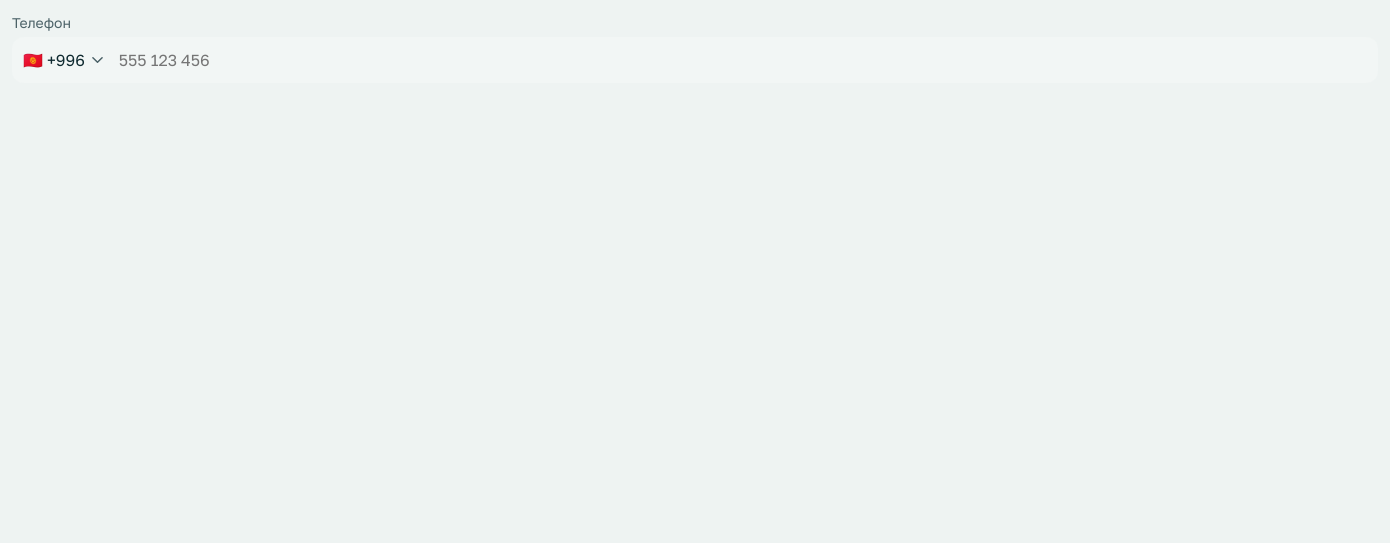
Scenario: другая страна — код набирают сами; номер, набранный с «+», переключает страну
The image size is (1390, 543).
Click the dropdown named "Код страны". click: coordinates (62, 60)
box: [13, 38, 111, 82]
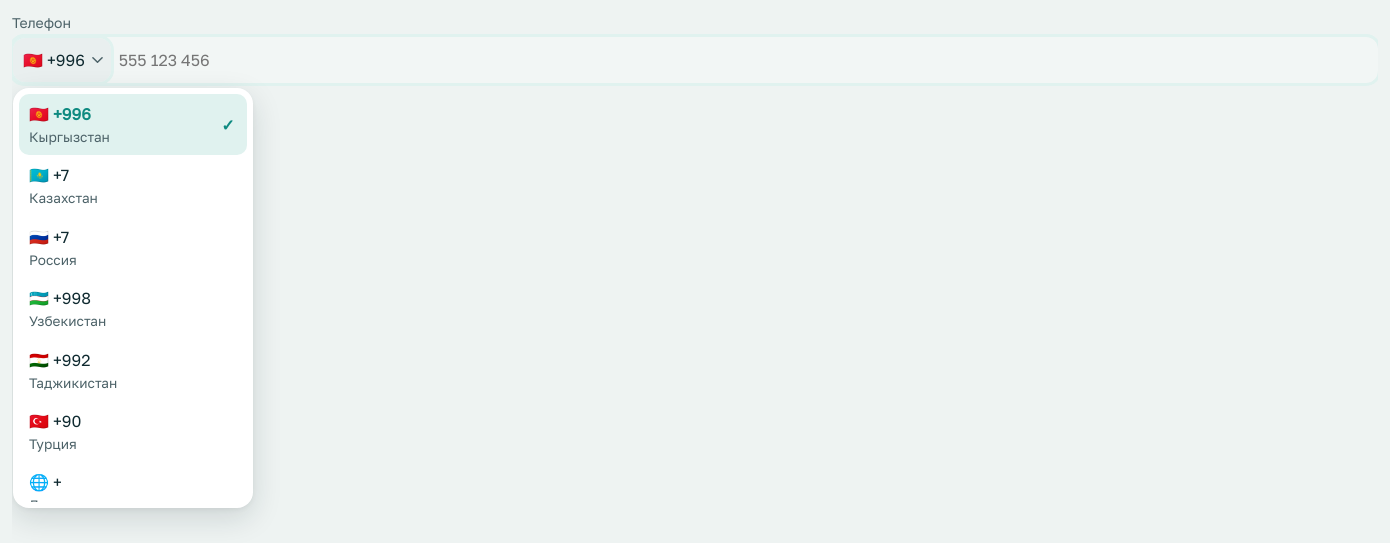
Click the option "🌐 + Другая страна". click: coordinates (45, 482)
box: [29, 472, 126, 513]
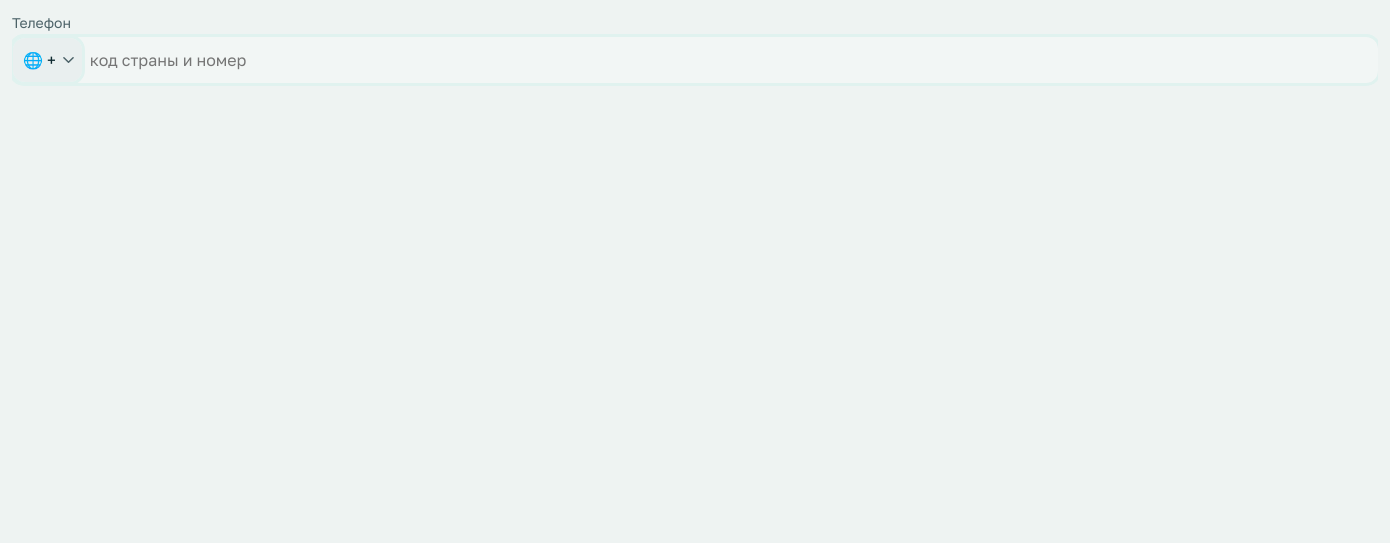
Type "4930 1234567" into the field labelled "Телефон". click: coordinates (729, 60)
box: [82, 38, 1377, 82]
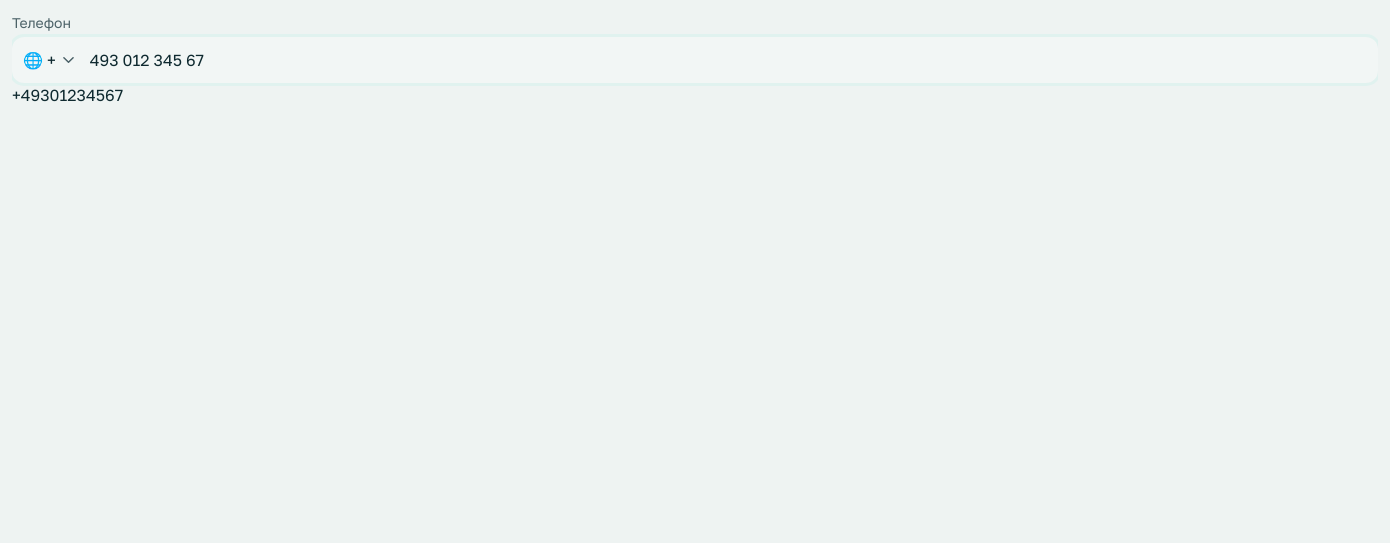
Expected: the field labelled "Телефон" holds "493 012 345 67"
Replace the text in the field labelled "Телефон" with "+992 93 123 45 67". click: coordinates (729, 60)
box: [82, 38, 1377, 82]
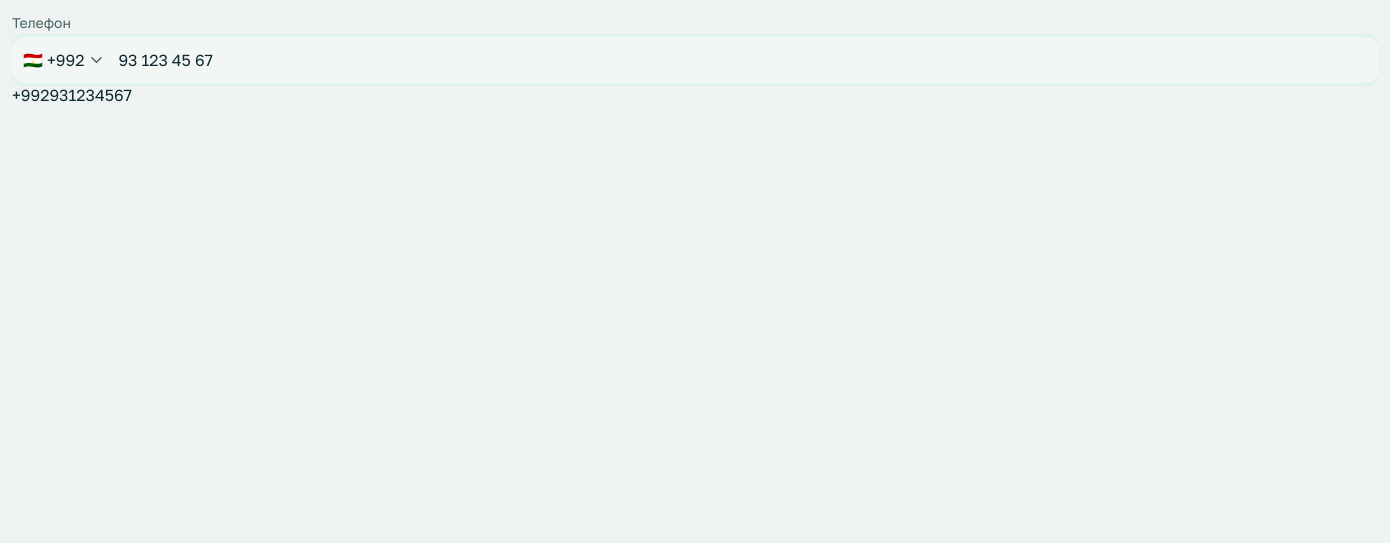
Expected: the element showing "🇹🇯 +992" is shown, [23, 48, 84, 72]
Expected: the field labelled "Телефон" holds "93 123 45 67", [110, 38, 1377, 82]
